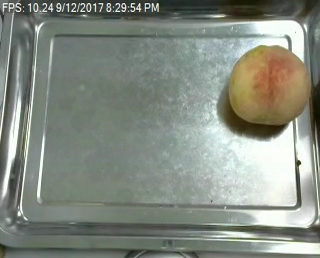Peach: (227, 43, 310, 125)
